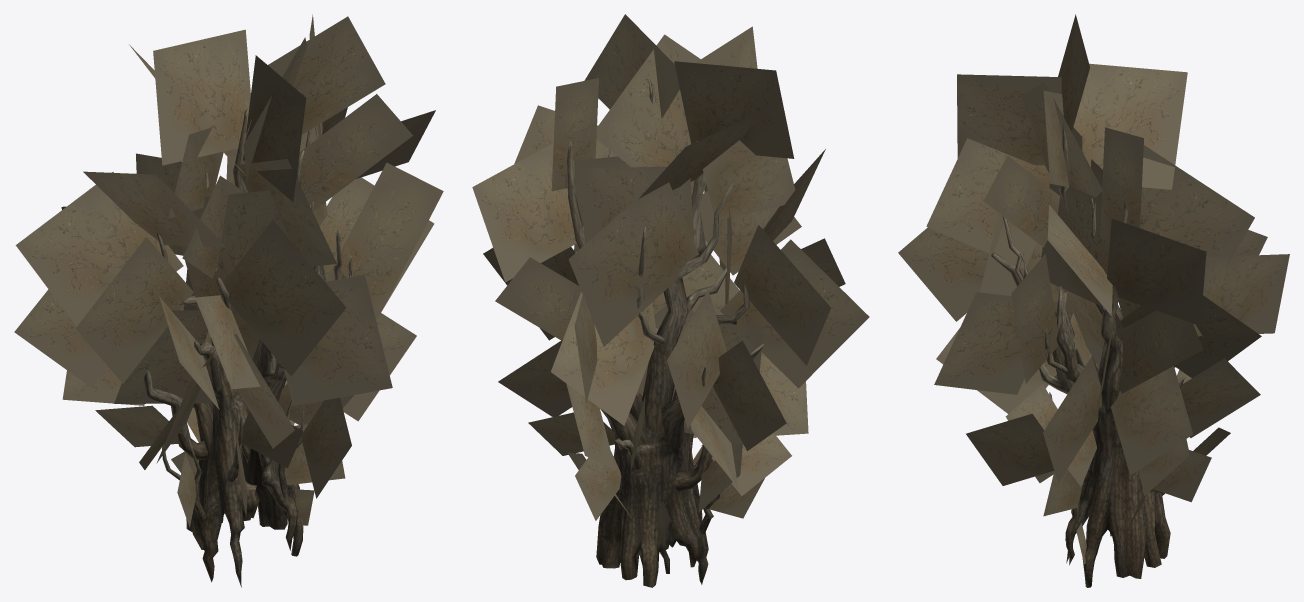
Rendered from Tree001.fbx.
3 views of the same model, side by side, from view 1: azimuth 30°, elevation 25°; view 2: azimuth 150°, elevation 25°; view 3: azimuth 270°, elevation 25° (orthographic). The views are drawn at different scales.
Visible parts, largest first — view 1: nodirectionlight, UE055; view 2: nodirectionlight, UE055; view 3: nodirectionlight, UE055.
Boxes of the visible parts, x1,y1,x2,y2 form: nodirectionlight: [14, 14, 443, 527]; UE055: [144, 108, 352, 587]; nodirectionlight: [472, 14, 869, 545]; UE055: [567, 76, 763, 587]; nodirectionlight: [898, 14, 1289, 564]; UE055: [991, 128, 1185, 587].
Size of the model in its own units: 141 by 191 by 131.
